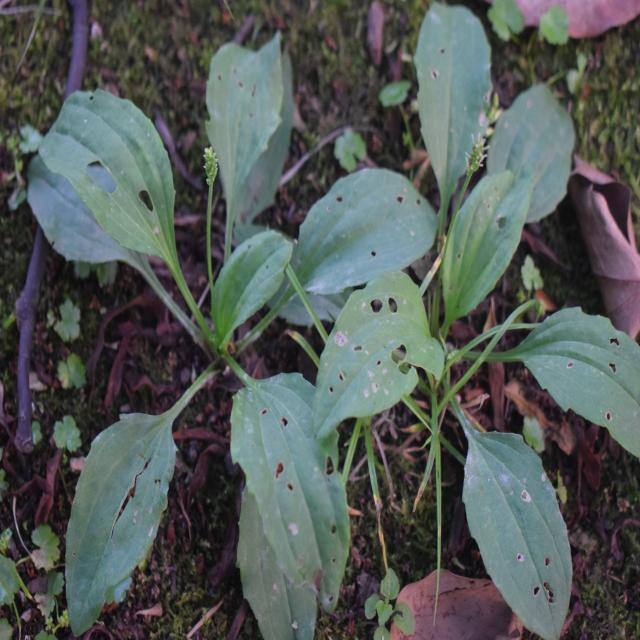plantain: (36, 58, 381, 594), (342, 31, 608, 602)
